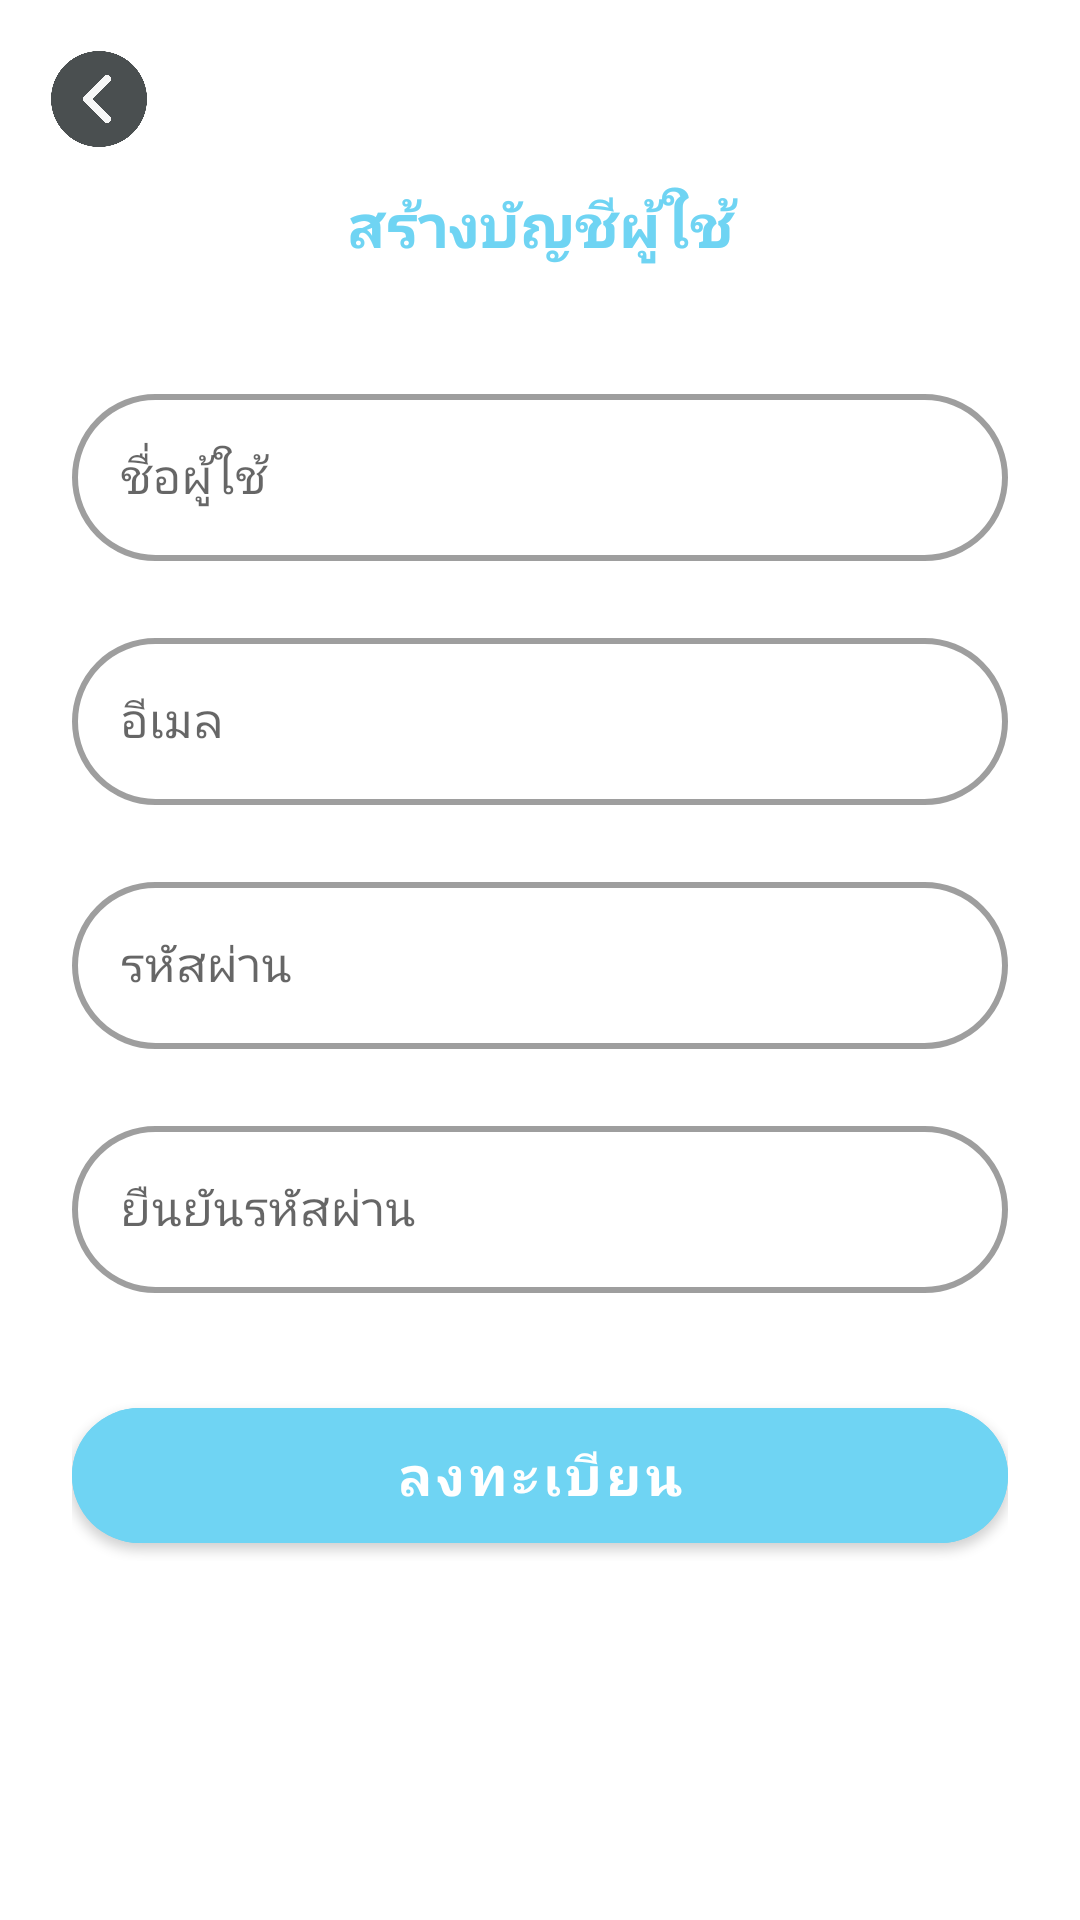

Icons on this 1080 x 1920 Android screen, each with the point to tap as point (x, y):
previous: point (99, 99)
